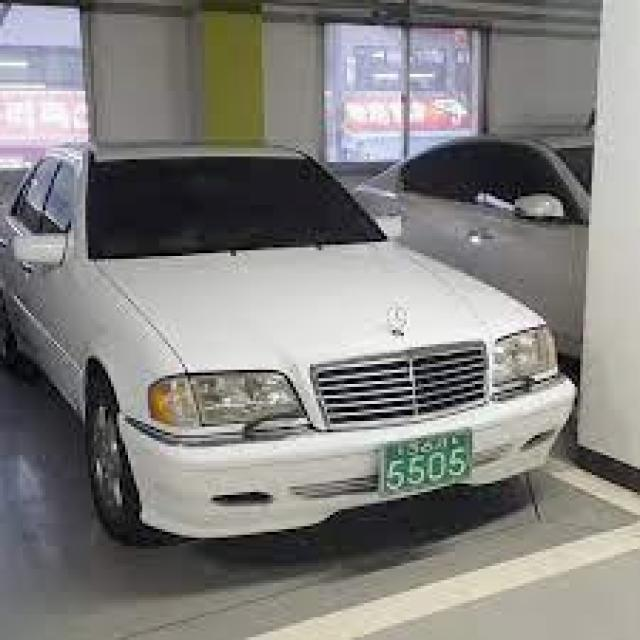car: (0, 137, 580, 549)
illegal_plate: (372, 426, 476, 494)
